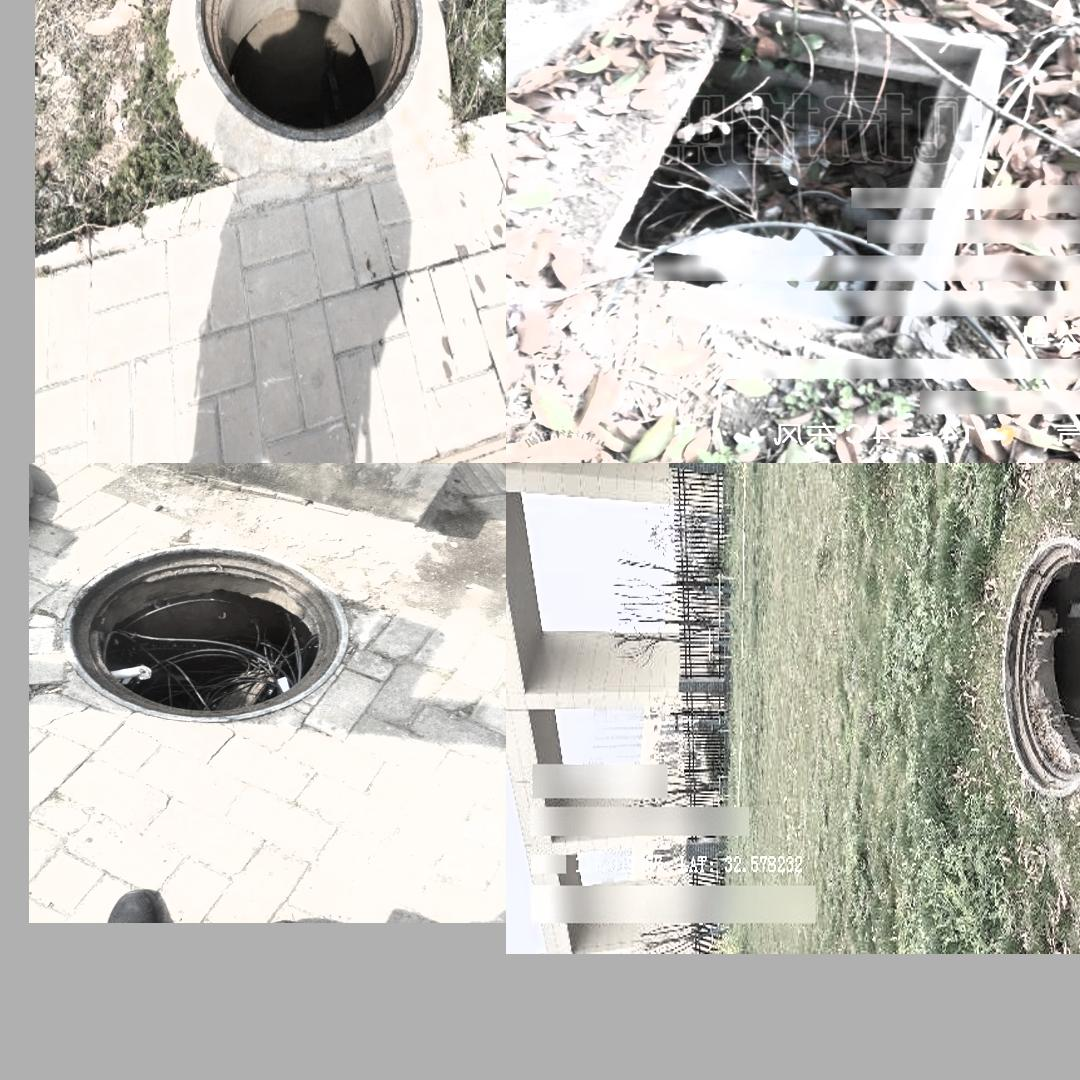lose: (586, 0, 1010, 376), (59, 544, 348, 723), (194, 0, 425, 146), (1001, 538, 1080, 800)
